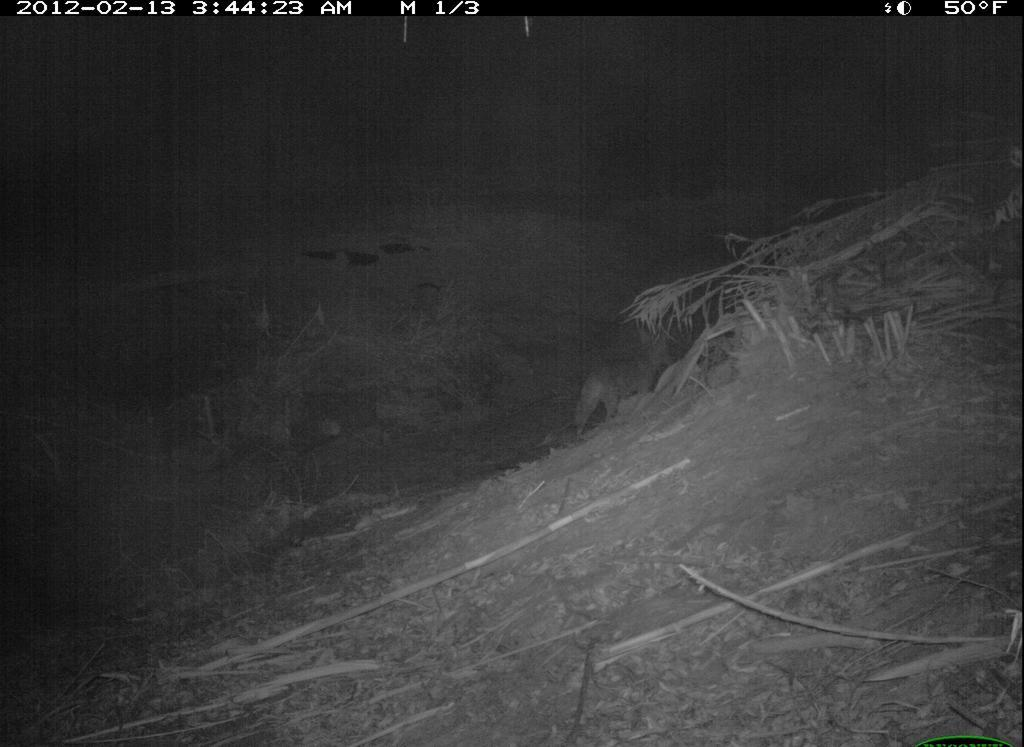coyote: (547, 313, 696, 432)
